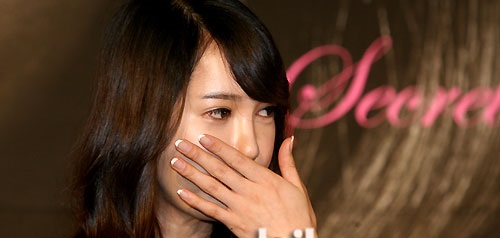face: (169, 55, 276, 218)
